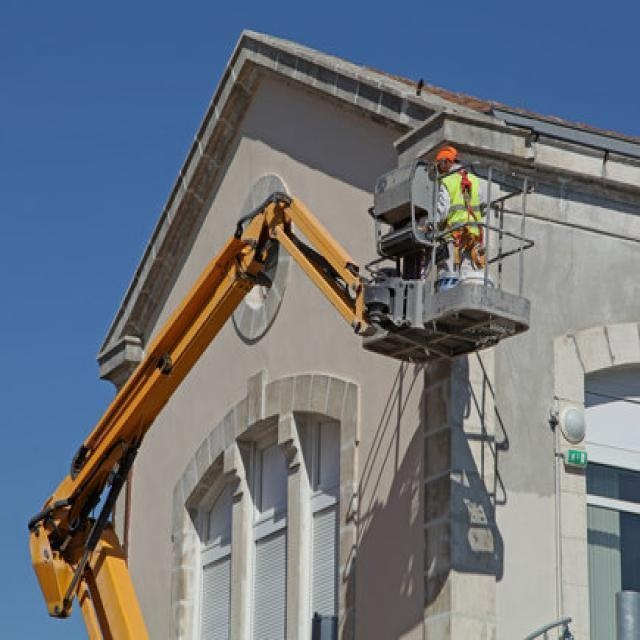Arnes_seguridad: (441, 167, 485, 256)
